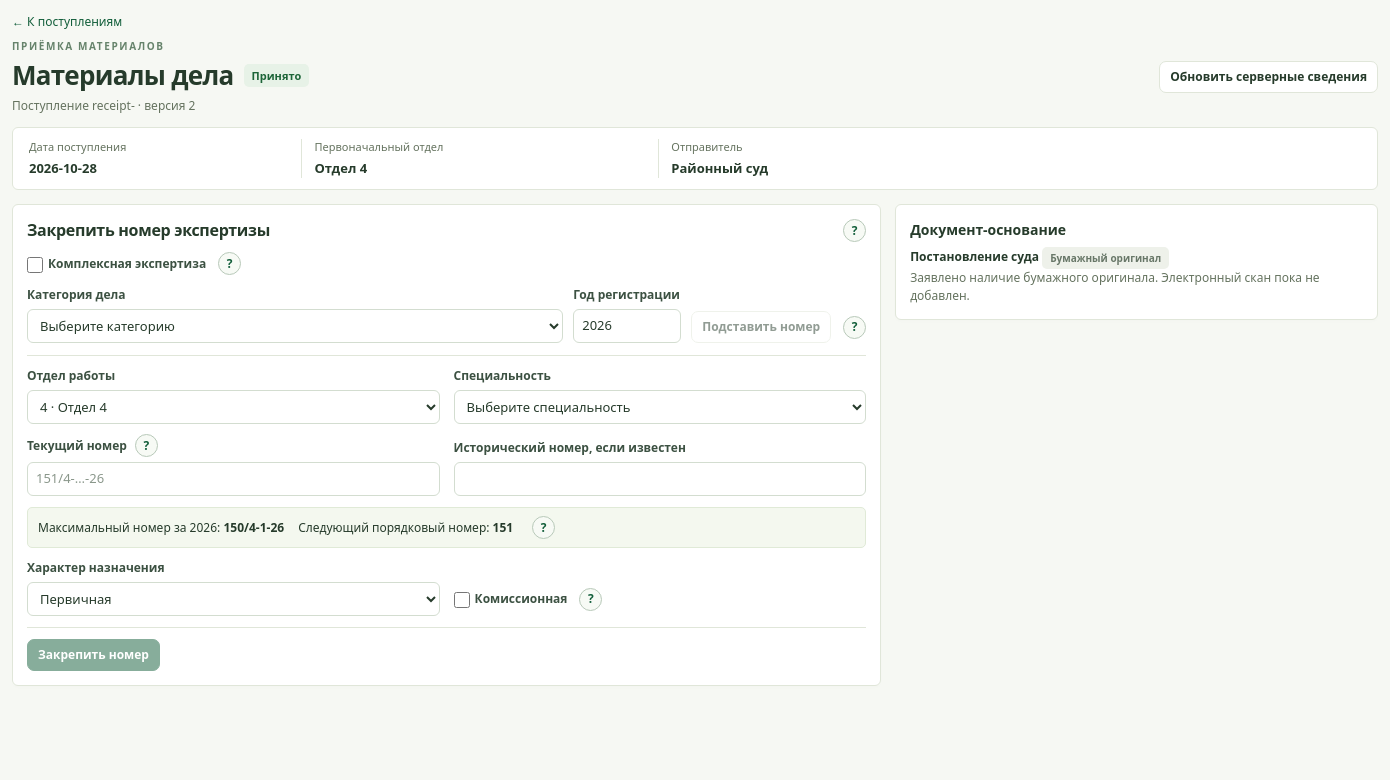
Test: manual expertise registration › keeps entered registration data on a 403 and never presents a saved work
The image size is (1390, 780).
Step 1. Type "151/4-1-26" into the field named "registration_number" → (233, 479), box x1=27 y1=462 x2=440 y2=496
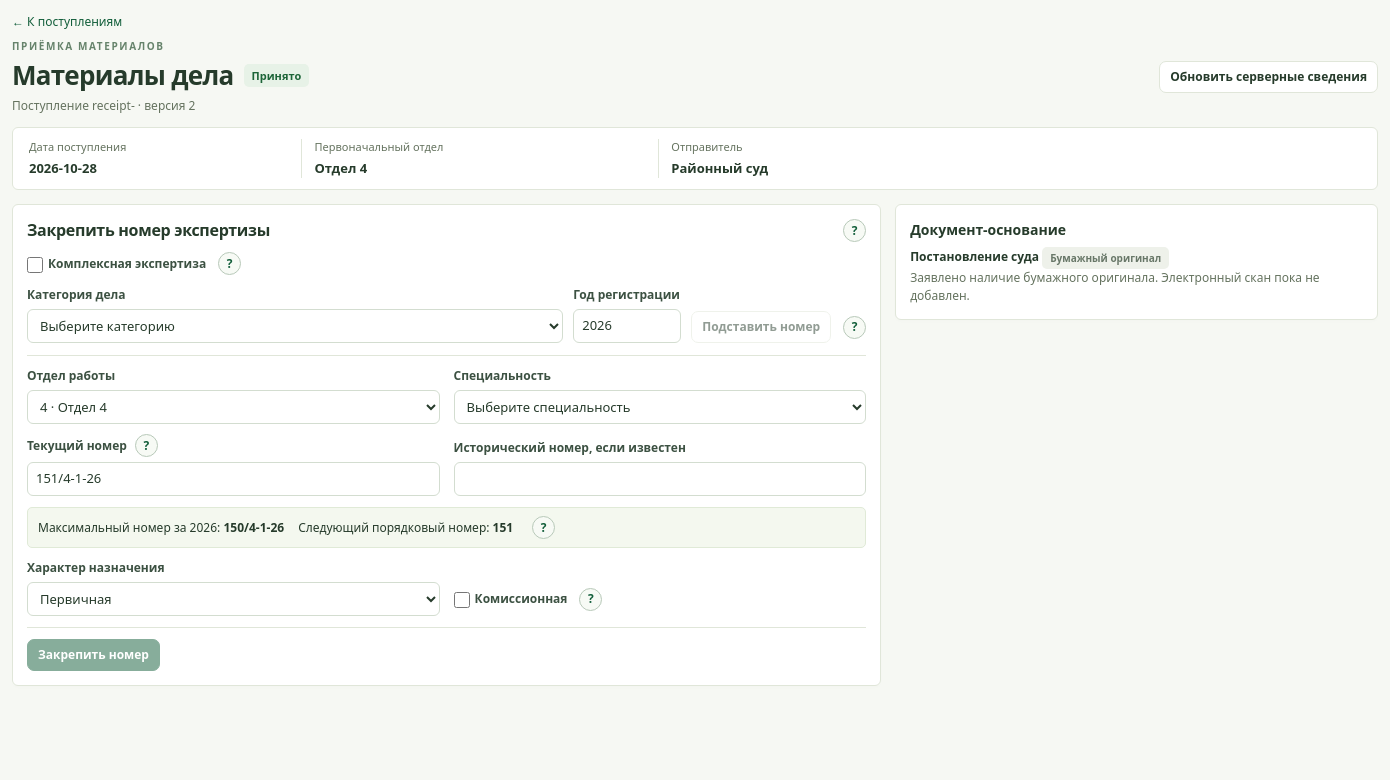
Step 2. Select "18.1 · Исследование записи" in the dropdown named "specialty_id" → (660, 407), box x1=454 y1=390 x2=866 y2=424
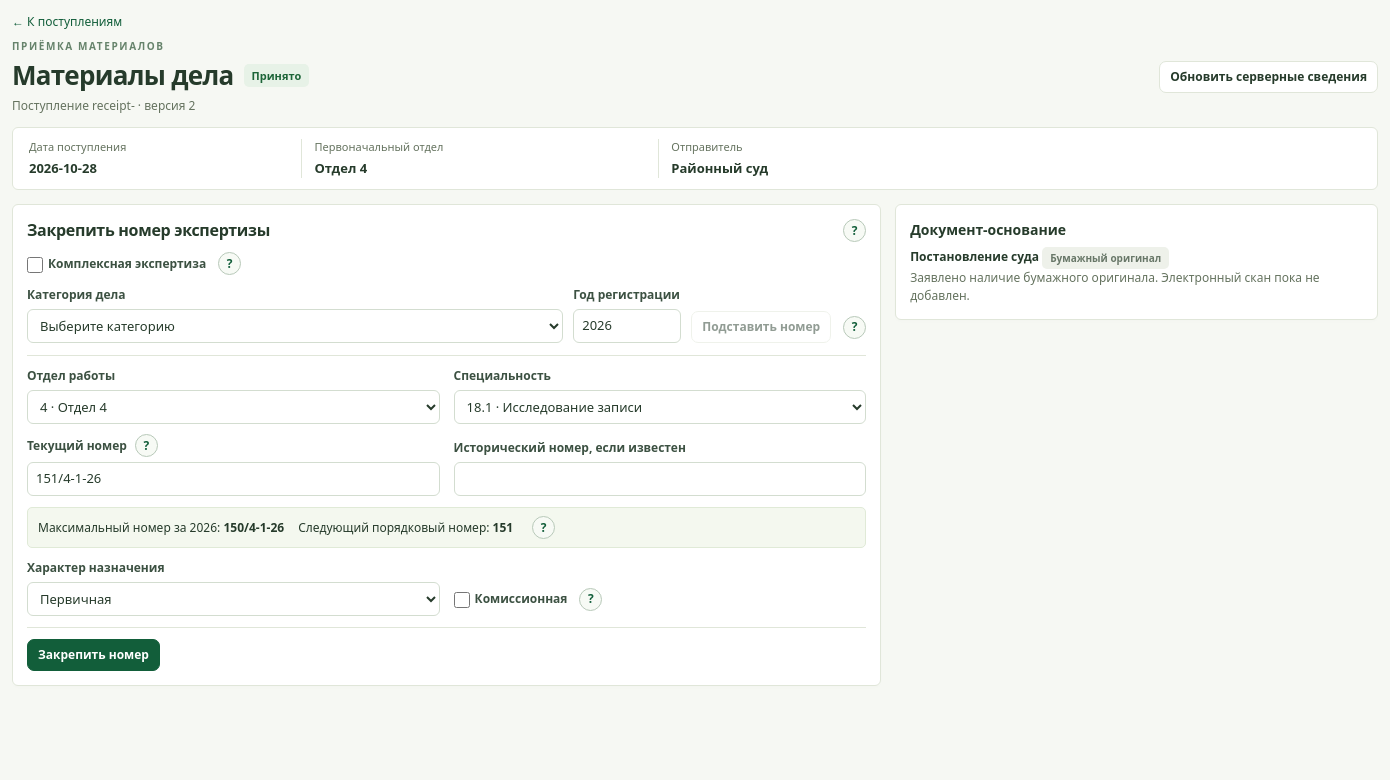
Step 3. Submit the form, box x1=27 y1=252 x2=866 y2=671
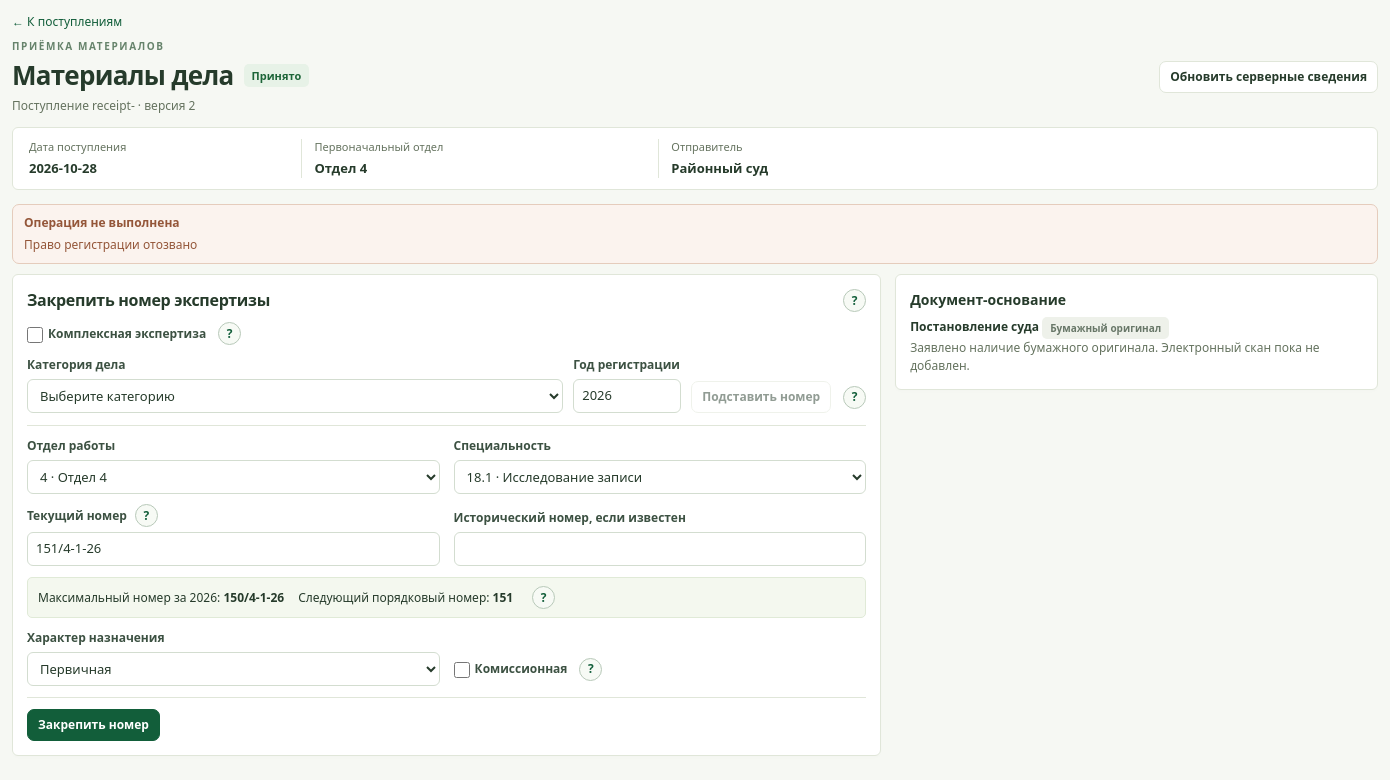
Now the text "Право регистрации отозвано" is shown, box x1=24 y1=236 x2=197 y2=253
